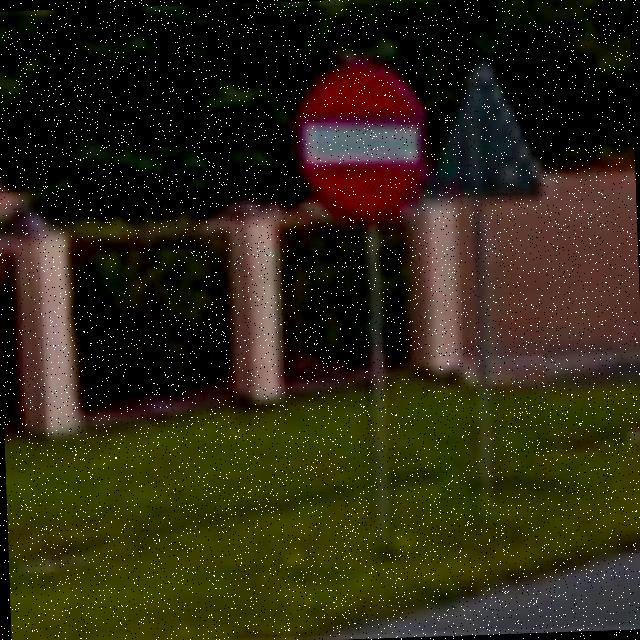Zakaz wjazdu: (288, 57, 432, 223)
